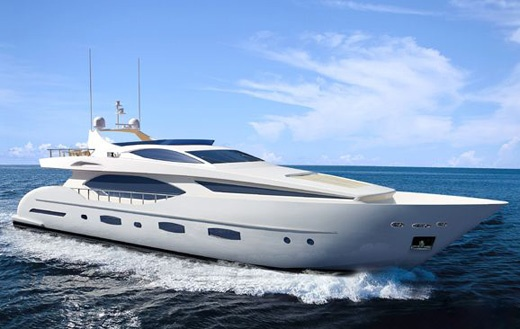yacht: (9, 46, 509, 284)
